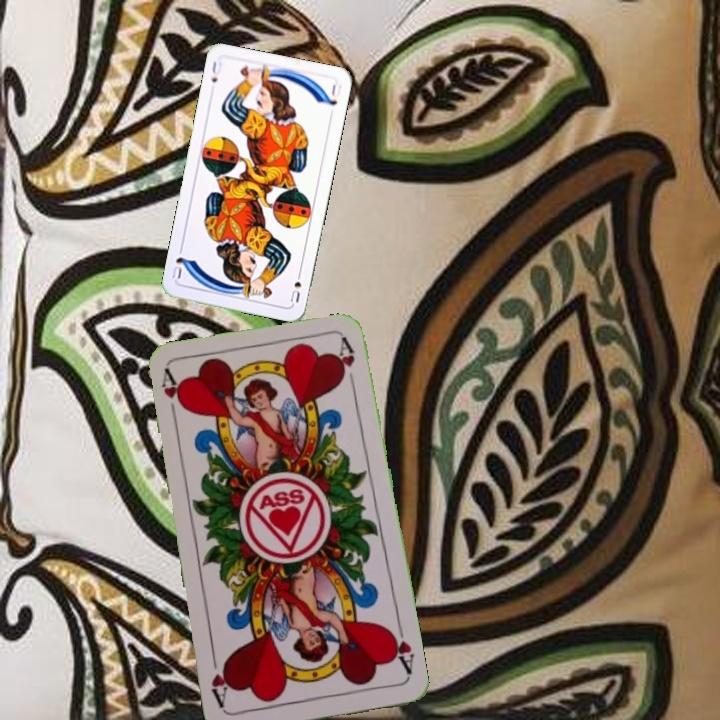HA: (384, 622, 417, 681), (156, 367, 186, 426)
SU: (286, 266, 304, 305), (207, 57, 225, 85)
